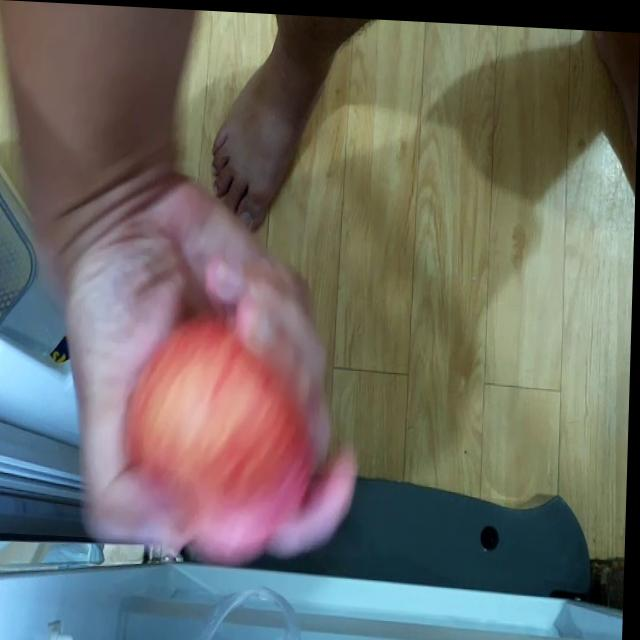apple: (133, 316, 318, 549)
